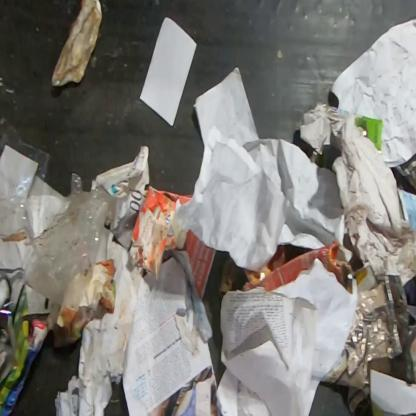cardboard: (240, 238, 356, 295), (91, 144, 150, 250), (0, 230, 32, 318)
rigid_plastic: (50, 0, 105, 88)
soft_plastic: (0, 124, 119, 314)
